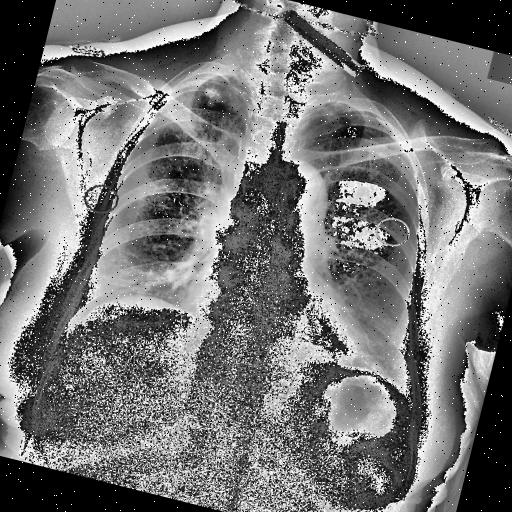0- Aortic enlargement: (268, 159, 338, 237), (265, 155, 337, 223), (270, 158, 336, 224)
11- Pleural thickening: (316, 94, 418, 160), (186, 66, 231, 90)
13- Pulmonary fibrosis: (196, 76, 228, 108)
2- Calcification: (200, 86, 230, 110)
3- Cardiomegaly: (180, 268, 386, 368), (176, 280, 382, 368), (179, 274, 370, 368)
8- Nodule-Mass: (196, 76, 228, 108), (200, 84, 224, 110)
